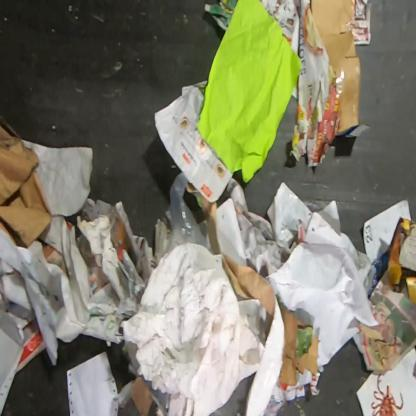cardboard: (310, 0, 361, 133), (0, 125, 53, 249), (222, 252, 275, 318), (279, 304, 320, 386)
soft_plastic: (164, 172, 216, 255)
